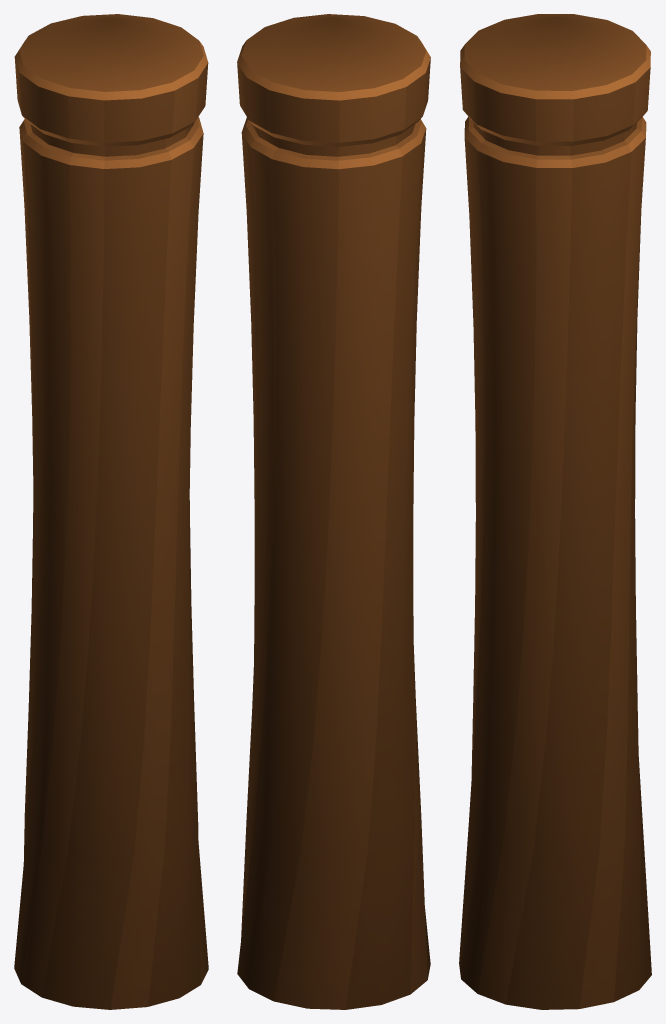
The model's file is Fence-3-3.fbx.
3 renders of one model, left to right at view 1: azimuth 30°, elevation 25°; view 2: azimuth 150°, elevation 25°; view 3: azimuth 270°, elevation 25°, orthographic.
Visible parts, largest first — view 1: Fence-3-3; view 2: Fence-3-3; view 3: Fence-3-3.
Part boxes in pixels (x1,y1,x2,y2): Fence-3-3: [14, 14, 208, 1009]; Fence-3-3: [237, 14, 430, 1009]; Fence-3-3: [459, 14, 651, 1009].
Size of the model in its own units: 28.97 by 158 by 28.97.
